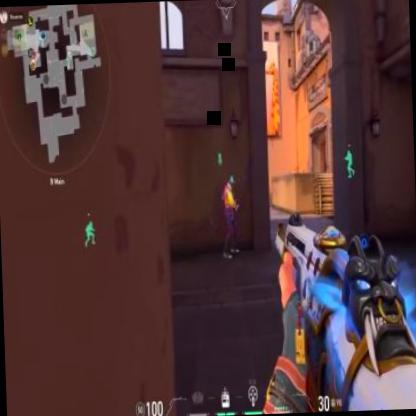enemy: (221, 176, 242, 262)
enemy_head: (229, 174, 235, 190)
